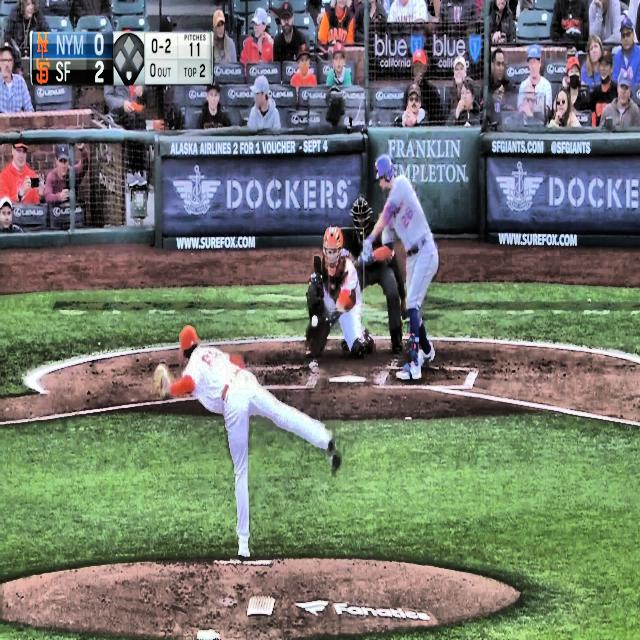baseball: (311, 314, 318, 329)
